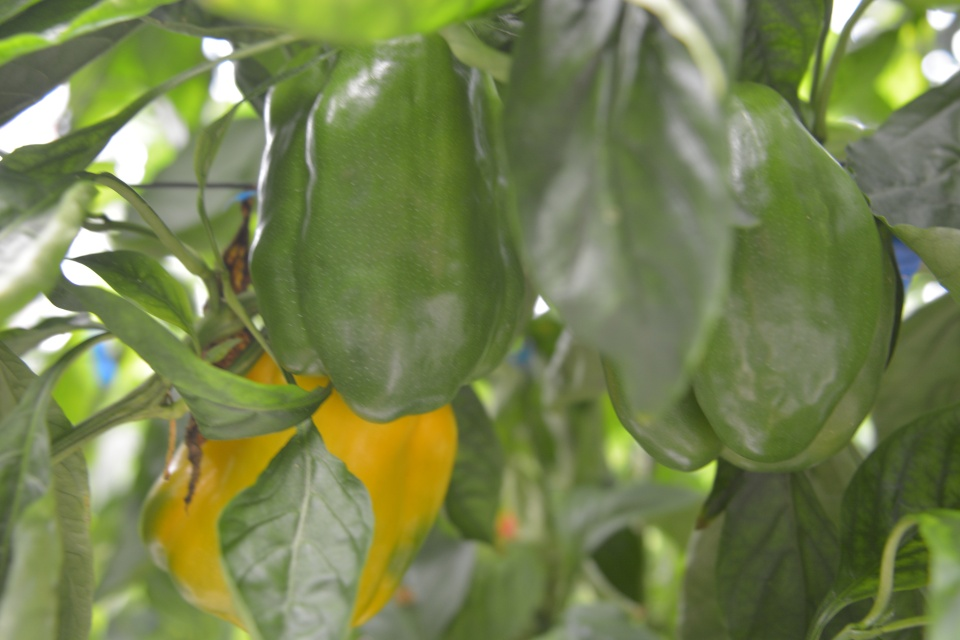fruit: (596, 82, 898, 478), (244, 29, 538, 427), (137, 341, 460, 640)
